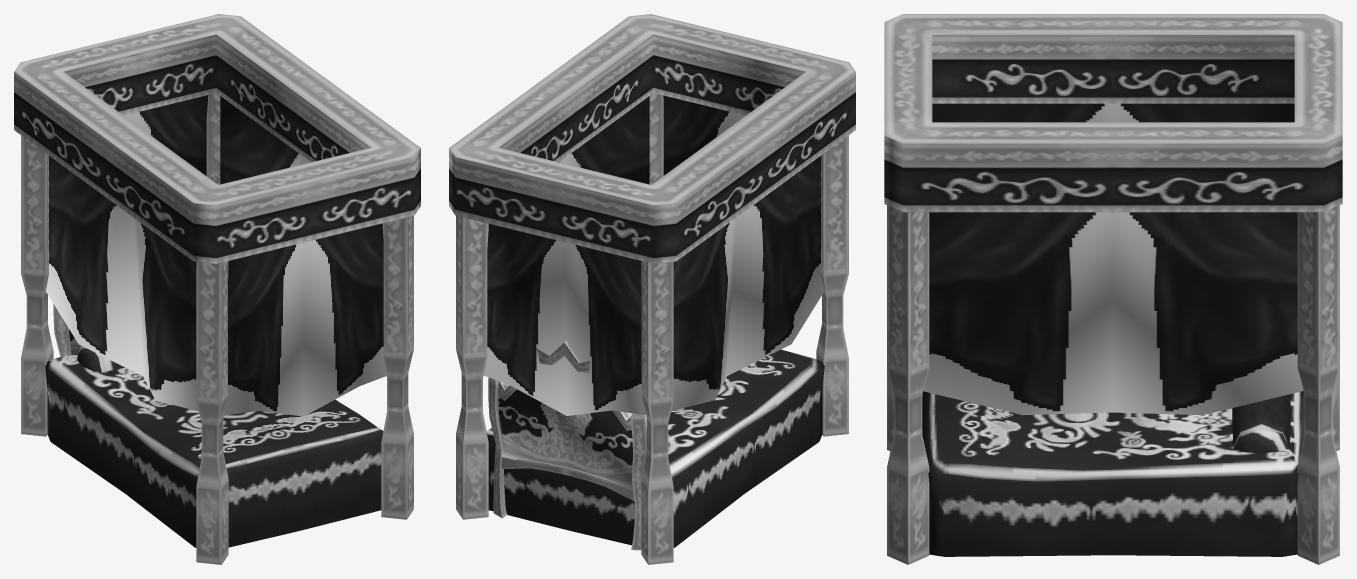
File: KingCanopyBed_HD.fbx
3 views of the same model, side by side, from view 1: azimuth 30°, elevation 25°; view 2: azimuth 150°, elevation 25°; view 3: azimuth 270°, elevation 25° (orthographic). The views are drawn at different scales.
Parts seen in each view (by area): view 1: KingCanopyBed; view 2: KingCanopyBed; view 3: KingCanopyBed.
Part boxes in pixels (left/top/right/bottom): KingCanopyBed: left=14, top=14, right=420, bottom=564; KingCanopyBed: left=449, top=14, right=855, bottom=564; KingCanopyBed: left=884, top=14, right=1342, bottom=564.
Bounding box in the file's own units: 1.93 × 2.94 × 2.88.
